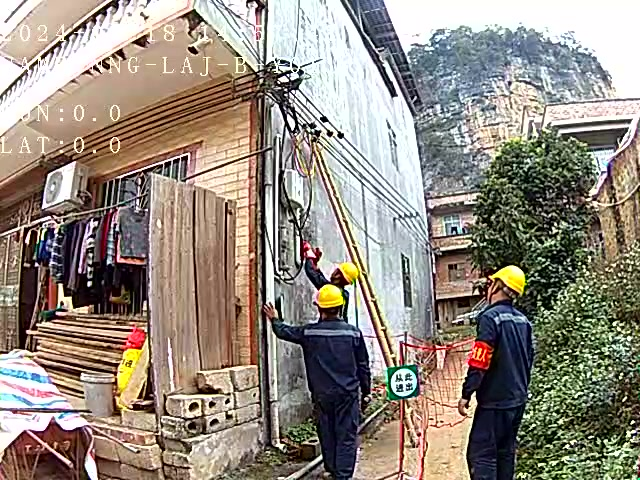halt: (487, 267, 529, 305), (318, 287, 350, 323), (332, 265, 361, 290)
inear: (490, 282, 507, 303)
